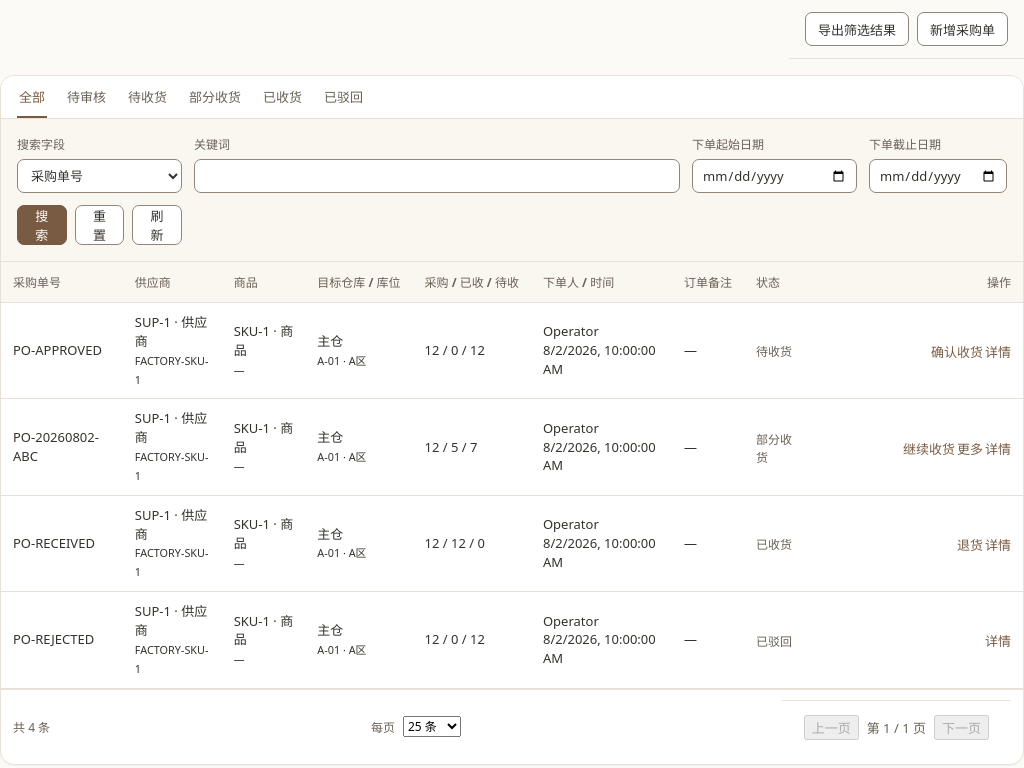
it: procurement order page › shows only state-appropriate row actions and keeps returns under more for partial receipts
Expected: the button "确认收货" is shown, [931,335,983,371]
Expected: the button "继续收货" is shown, [903,431,955,467]
What coordinates should you click on to do the following:
click the heading "更多"
I would click on:
 (970, 449)
Its box is [957,440,983,458].
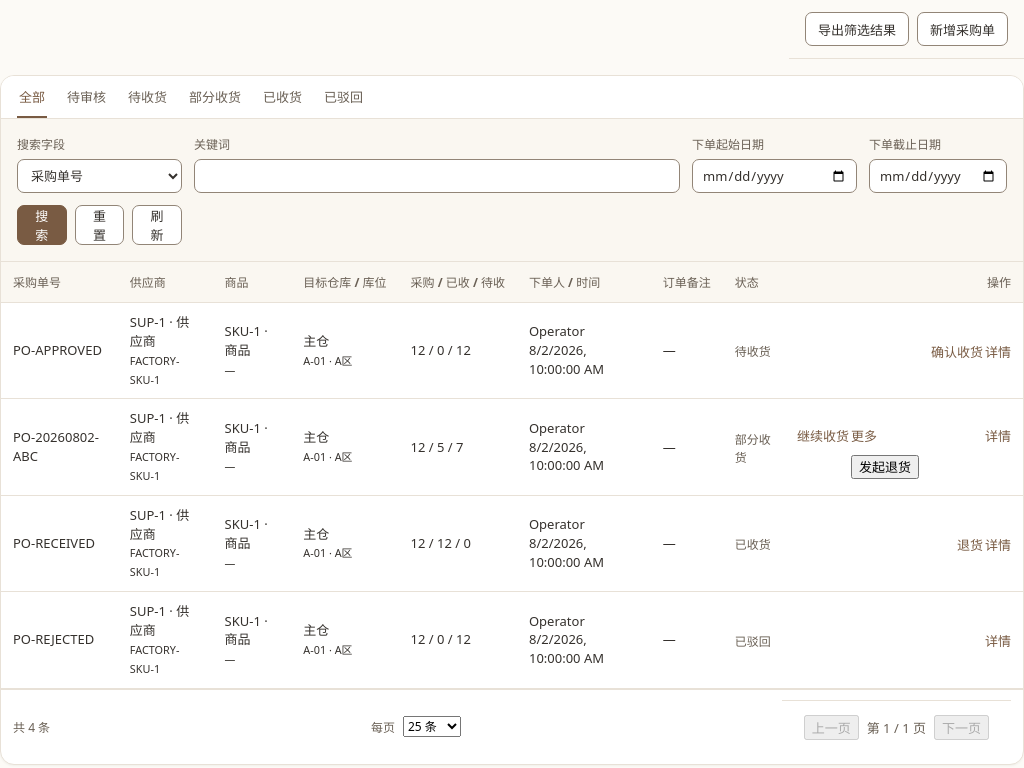
What coordinates should you click on to do the following:
click the button "发起退货"
I would click on:
 (885, 467)
Its box is [851,455,919,479].
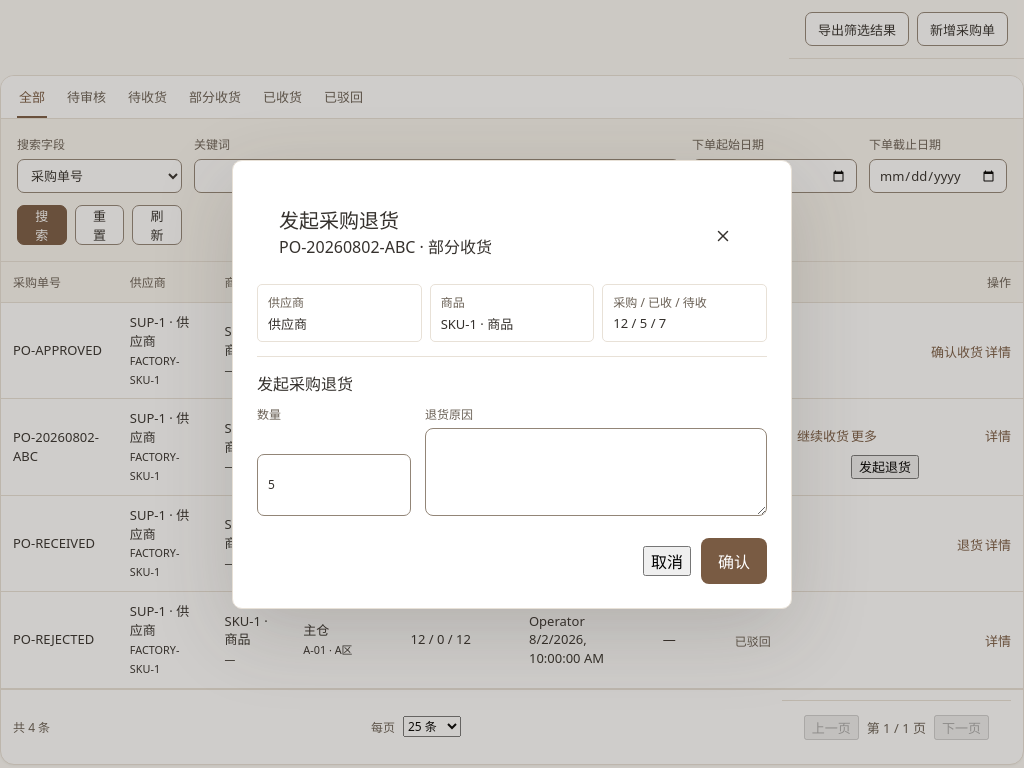
Now the dialog "发起采购退货" is shown, box [232,160,792,608]
Now the number field labelled "数量" holds "5", box [257,454,411,516]
